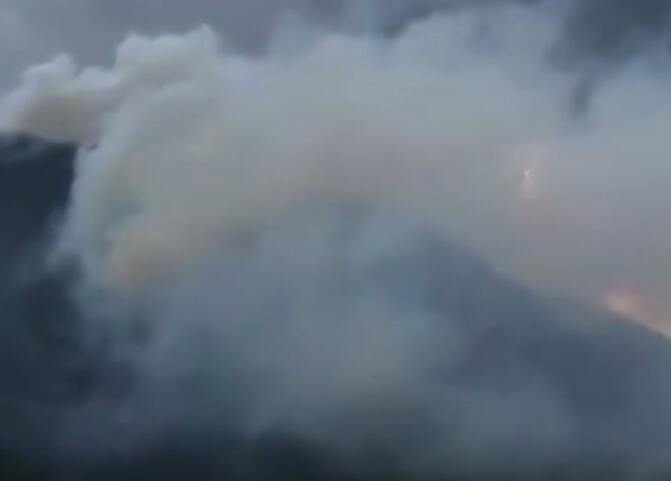yanwu: (6, 1, 671, 453)
